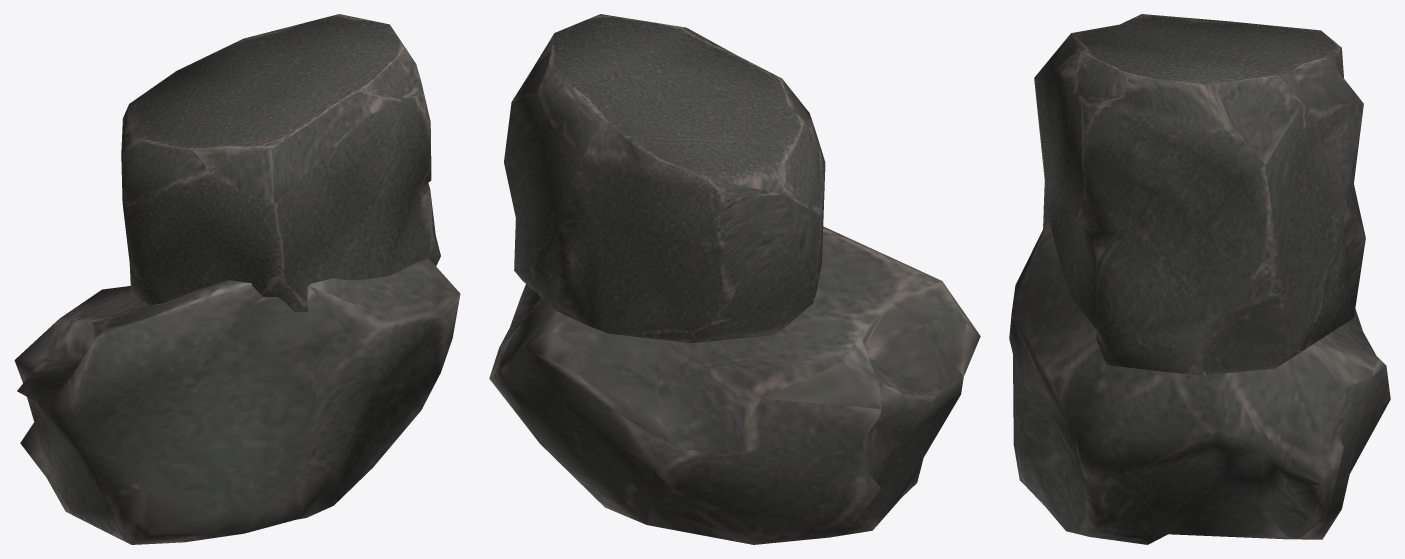
Rendered from cliff_stone_stack.gltf.
3 renders of one model, left to right at view 1: azimuth 30°, elevation 25°; view 2: azimuth 150°, elevation 25°; view 3: azimuth 270°, elevation 25°, orthographic. The views are drawn at different scales.
Visible parts, largest first — view 1: cliff_stone_stack; view 2: cliff_stone_stack; view 3: cliff_stone_stack.
Part boxes in pixels (<box>): cliff_stone_stack: <box>14,14,460,544</box>; cliff_stone_stack: <box>489,14,980,544</box>; cliff_stone_stack: <box>1009,14,1390,544</box>.
Bounding box in the file's own units: 1.4 × 1.37 × 0.92.
Materials: 1 (1 with a texture image).
